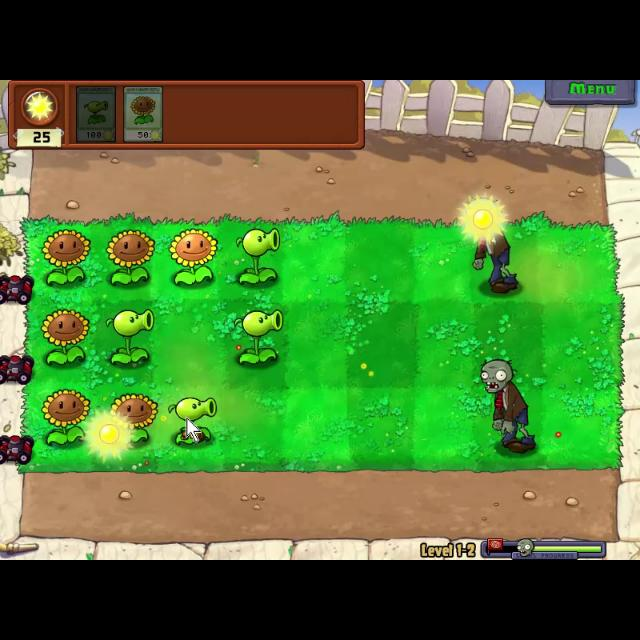Garden: (21, 216, 624, 472)
Menu Button: (543, 80, 637, 104)
Mower: (0, 274, 36, 306), (0, 356, 34, 386), (1, 434, 34, 464)
Peashooter: (75, 82, 118, 144)
Peashooter Seed: (232, 306, 288, 370), (103, 304, 159, 366), (163, 391, 220, 451), (233, 226, 284, 286)
Seed Panel: (8, 80, 372, 150)
Sun: (82, 412, 140, 464), (456, 192, 512, 245)
Sunflower: (124, 84, 164, 144)
Sunflower Seed: (163, 225, 220, 289), (36, 227, 90, 287), (36, 306, 88, 368), (39, 388, 87, 450), (104, 226, 152, 288), (108, 391, 156, 449)
Zombie: (473, 355, 539, 457), (464, 199, 526, 293)
